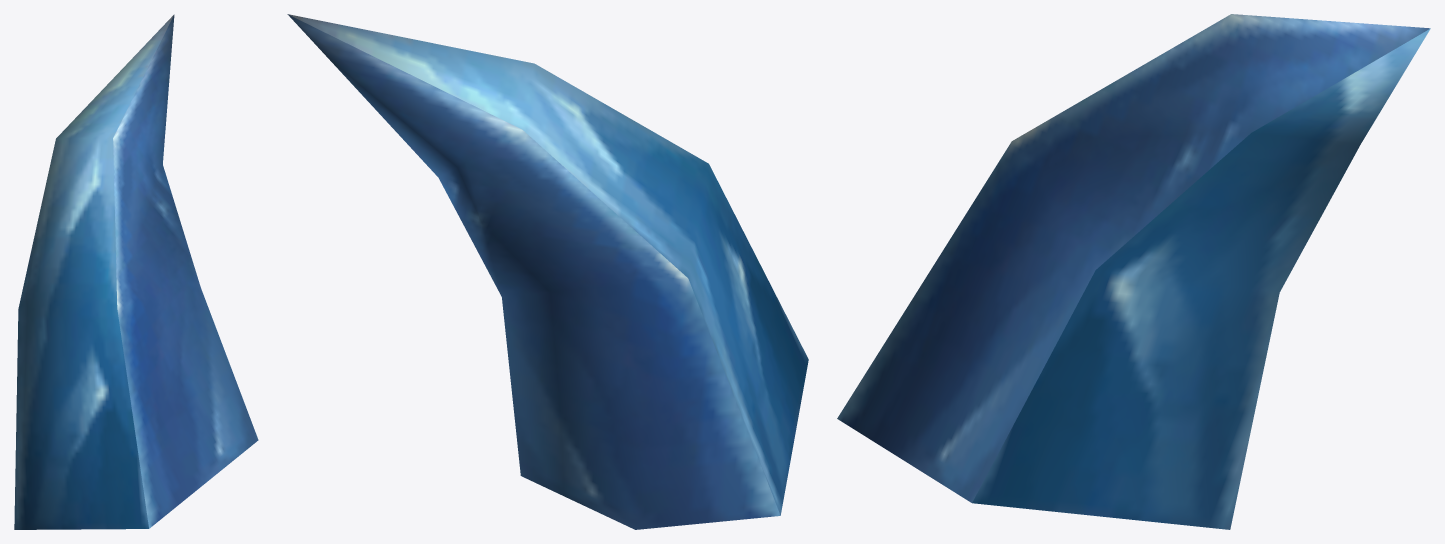
The model's file is SM_crystal_03.fbx.
The picture shows the model from 3 angles, left to right: view 1: azimuth 30°, elevation 25°; view 2: azimuth 150°, elevation 25°; view 3: azimuth 270°, elevation 25°; orthographic projection. The views are drawn at different scales.
Parts seen in each view (by area): view 1: SM_crystal_03; view 2: SM_crystal_03; view 3: SM_crystal_03.
Boxes of the visible parts, x1=… form: SM_crystal_03: x1=14, y1=14, x2=258, y2=529; SM_crystal_03: x1=287, y1=14, x2=808, y2=529; SM_crystal_03: x1=837, y1=14, x2=1430, y2=529.
Bounding box in the file's own units: 1.3 × 1.8 × 1.54.
